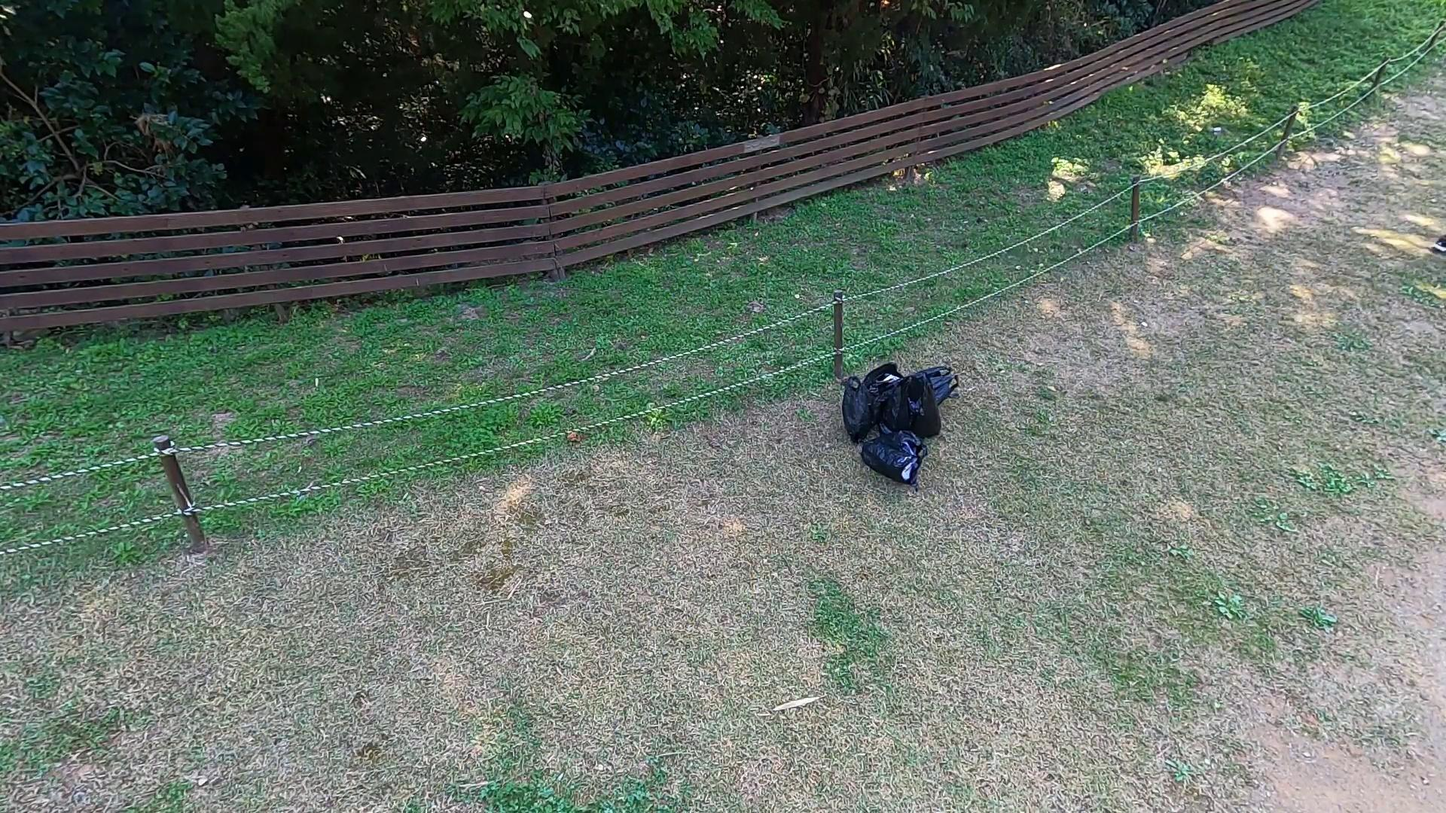trash: (876, 372, 942, 436), (861, 429, 924, 483), (897, 360, 957, 414), (858, 361, 906, 426), (843, 378, 886, 439)
